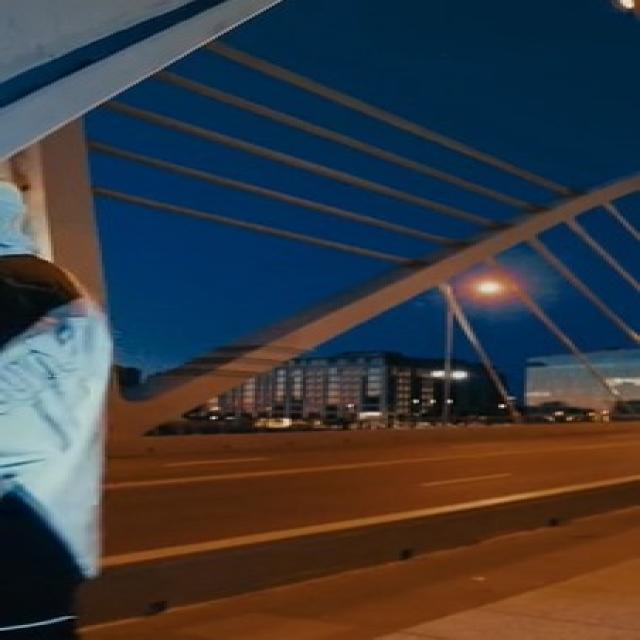Jacket_Wearer: (0, 252, 170, 592)
Person: (0, 185, 207, 628)
